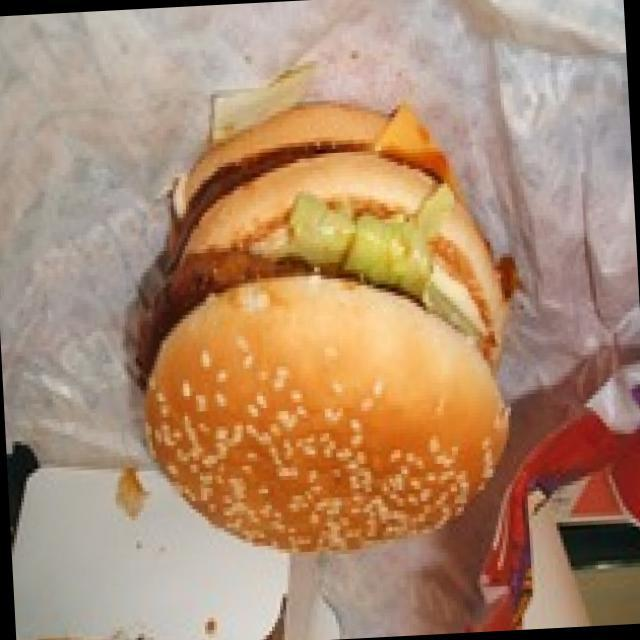Hamburger: (126, 97, 534, 565)
